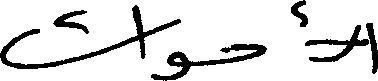X: (0, 5, 131, 73), (305, 0, 358, 66), (166, 14, 188, 80), (222, 39, 264, 68), (133, 0, 145, 63), (365, 18, 377, 78)
